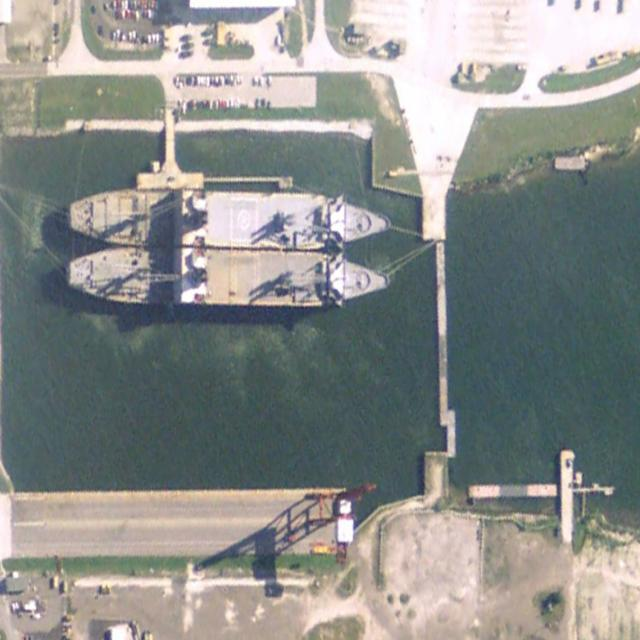Cargo: (67, 186, 392, 250), (66, 246, 391, 306)
